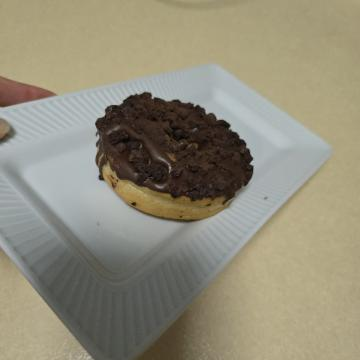doughnut: (78, 100, 229, 279)
